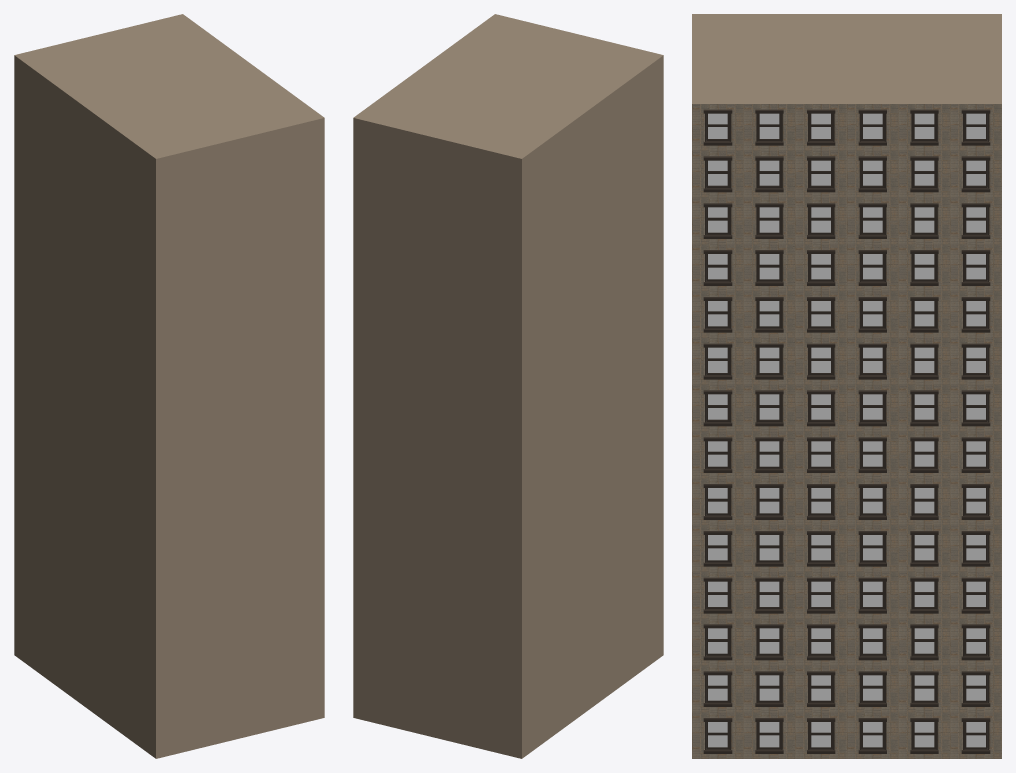
Rendered from Building3Tall.fbx.
3 views of the same model, side by side, from view 1: azimuth 30°, elevation 25°; view 2: azimuth 150°, elevation 25°; view 3: azimuth 270°, elevation 25° (orthographic). The views are drawn at different scales.
Visible parts, largest first — view 1: Building3BeigeTall; view 2: Building3BeigeTall; view 3: Building3BeigeTall.
Part boxes in pixels (bbox=[...]): Building3BeigeTall: bbox=[14, 14, 324, 758]; Building3BeigeTall: bbox=[353, 14, 663, 758]; Building3BeigeTall: bbox=[692, 14, 1001, 758].
Bounding box in the file's own units: 837 × 2800 × 1200.
